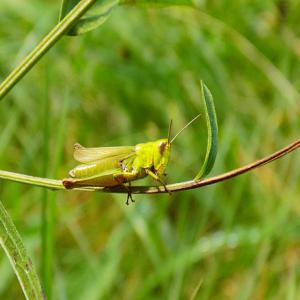locust: (52, 108, 205, 207)
